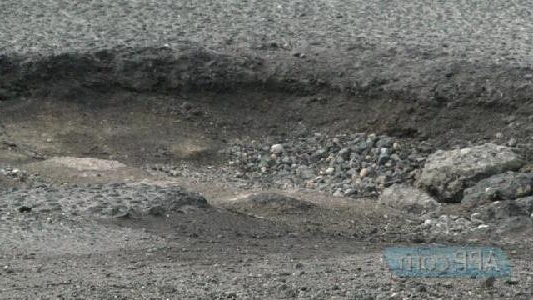pothole: (0, 37, 532, 244)
